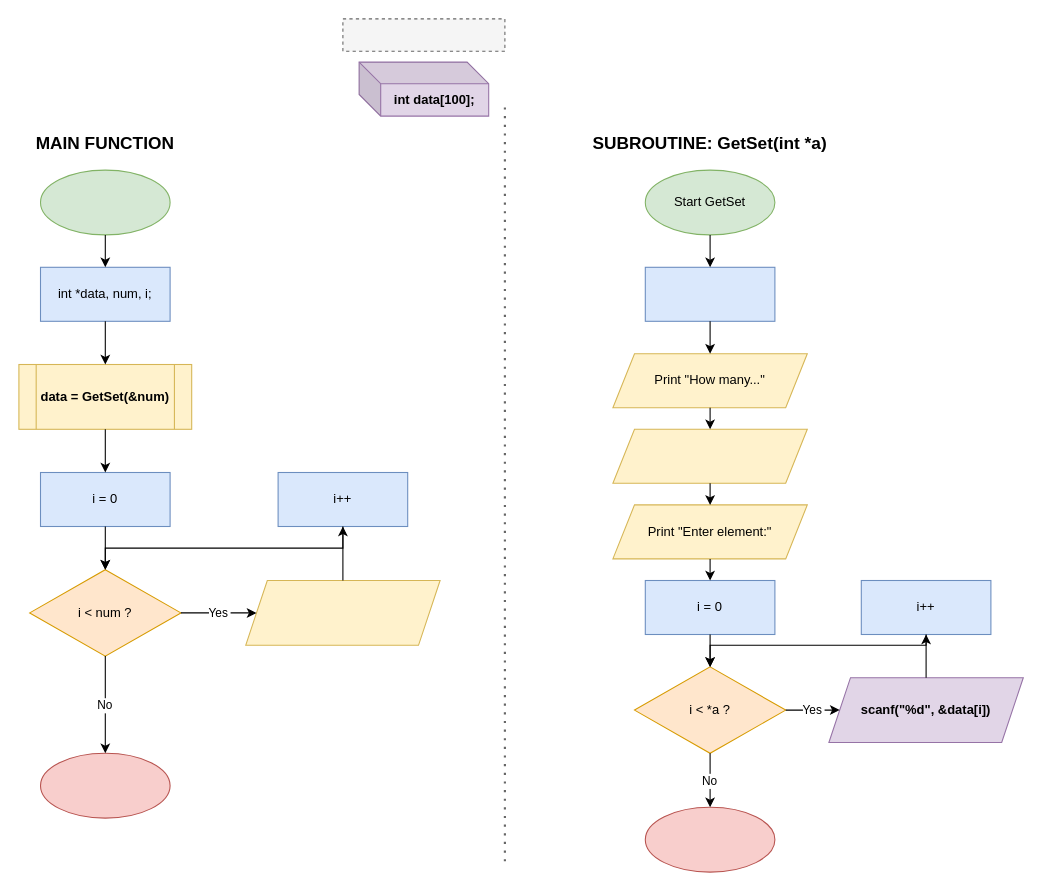
The diagram is 1042 pixels wide and 891 high, and some of its shapes have lost their labels. Each missing label, with the centre of its shape:
End Main / Return 0: the point at 104,785
GLOBAL SCOPE: the point at 423,34
int i;: the point at 709,293
printf("%d ", data[i]): the point at 342,612
Return data: the point at 709,839
scanf("%d", a): the point at 709,455
Start Main: the point at 104,202
